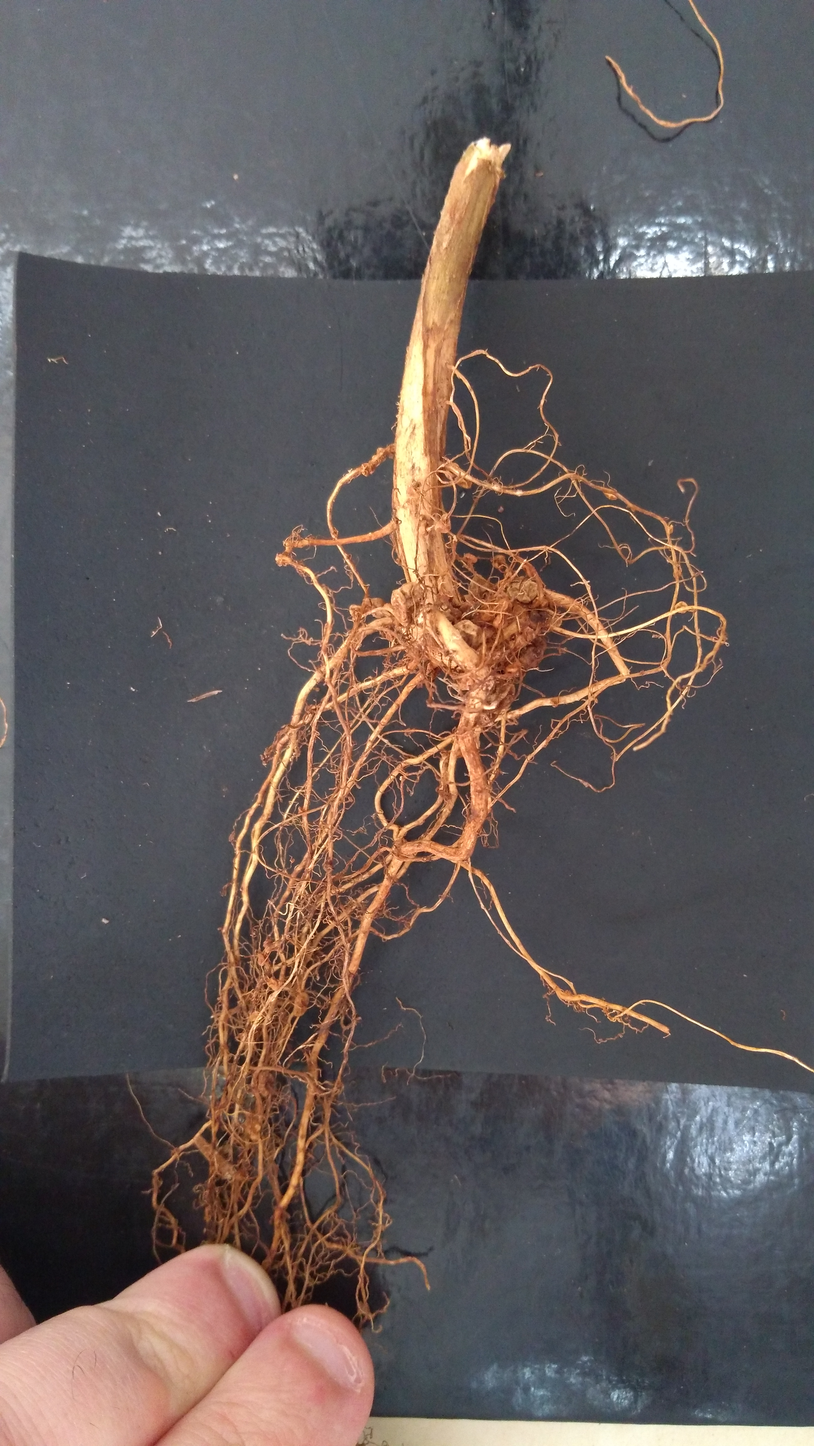nodule: (386, 578, 429, 631), (452, 616, 485, 653), (508, 577, 542, 604), (518, 644, 549, 672), (464, 572, 493, 598), (539, 610, 566, 637), (361, 593, 389, 619), (289, 988, 311, 1019), (477, 707, 502, 732), (250, 1070, 274, 1096), (487, 548, 510, 573), (503, 658, 527, 681), (433, 510, 455, 535), (452, 471, 477, 492), (263, 976, 286, 993), (601, 485, 621, 504), (673, 599, 692, 618), (346, 601, 364, 621), (320, 858, 337, 876), (359, 462, 376, 478), (459, 551, 481, 563), (248, 1011, 268, 1024), (262, 960, 276, 977), (253, 952, 268, 967), (667, 523, 678, 536), (296, 805, 309, 816), (550, 696, 560, 709), (289, 857, 297, 864)
